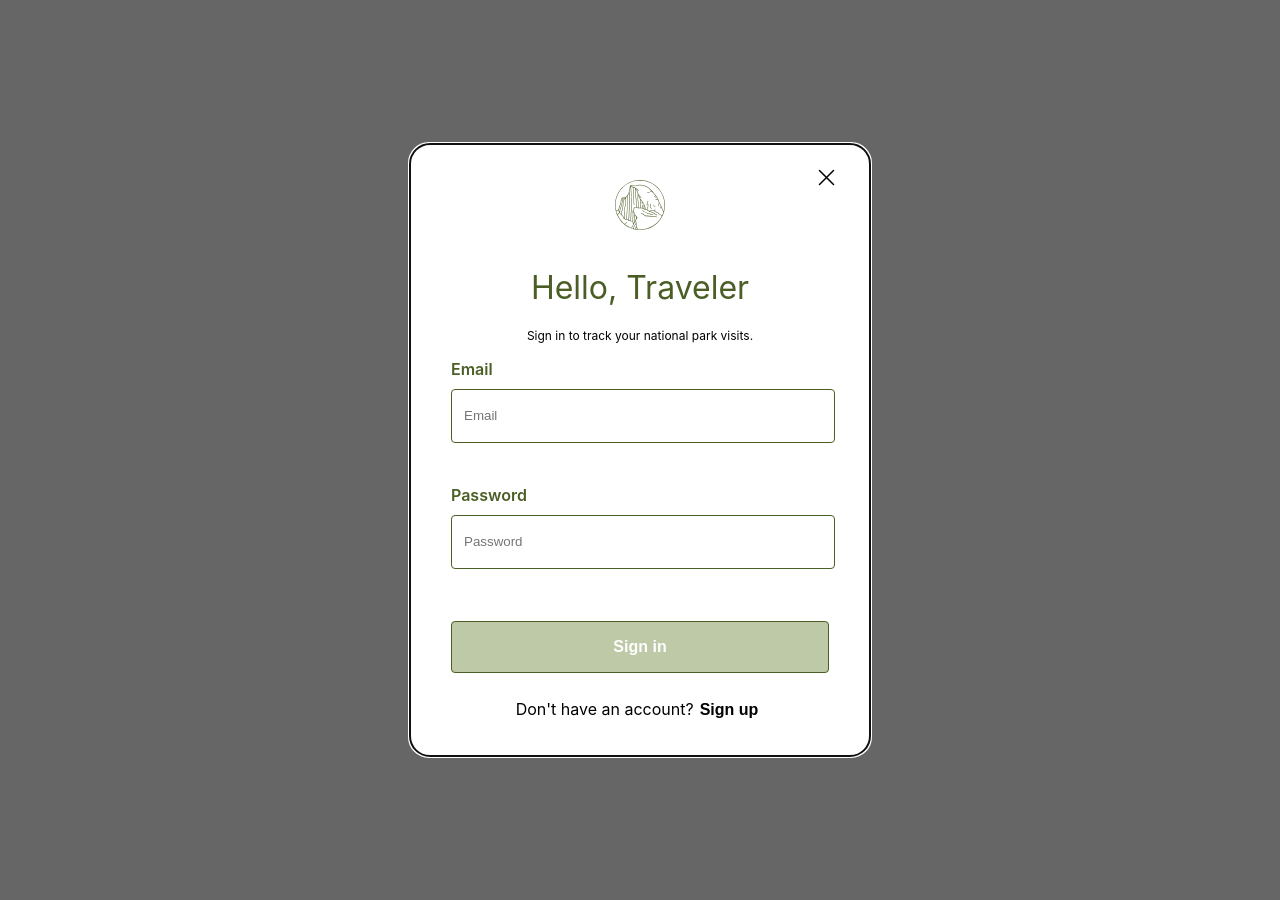
<LoginModalContainer /> › Submit errors › Returns error message
Step 1. Type "Test@gmail.com" into the field labelled "Email" → (643, 416), box [451, 389, 835, 443]
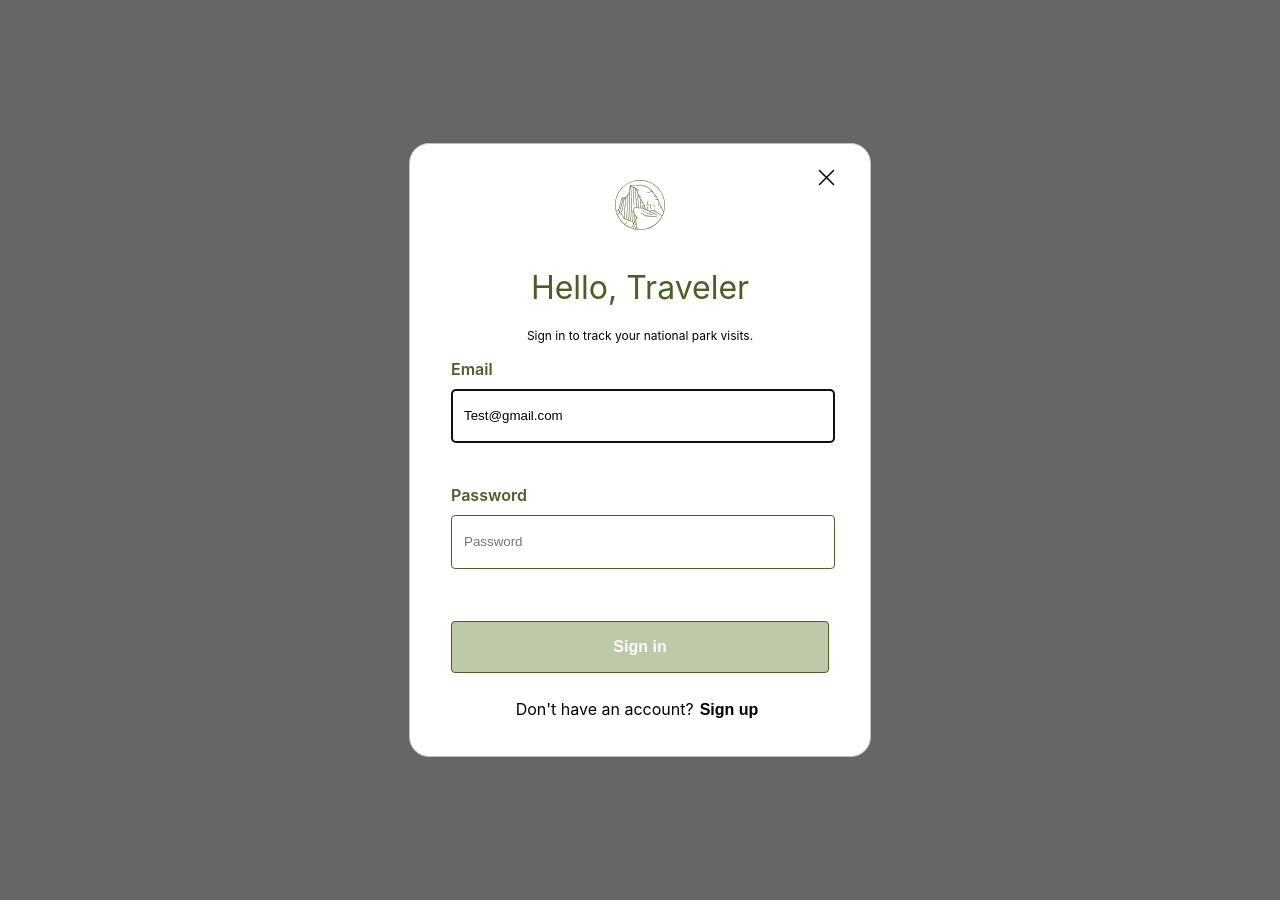
Step 2. Type "Test12345" into the password field labelled "Password" → (643, 542), box [451, 515, 835, 569]
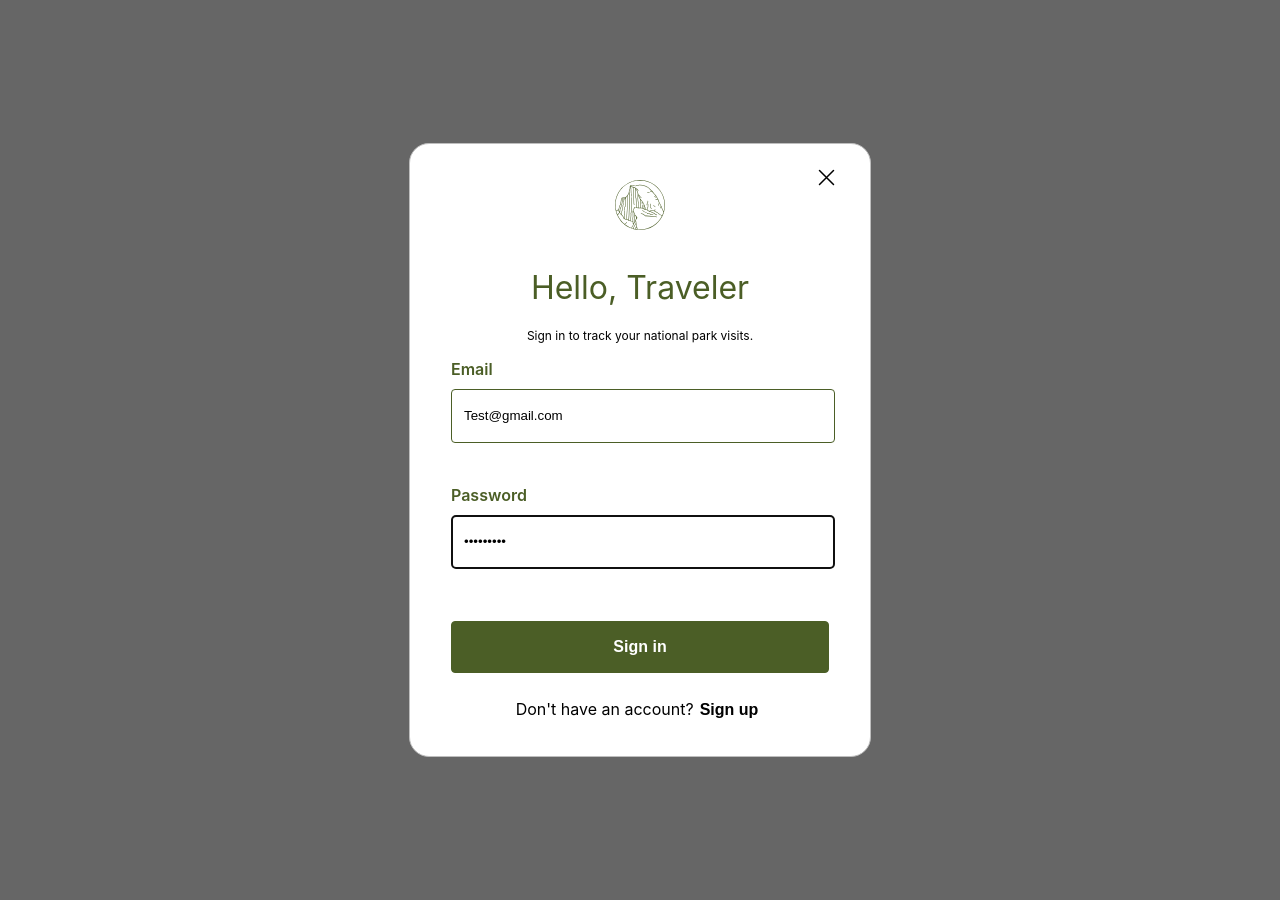
Result: the button "Sign in" is enabled
Step 3. Click the button "Sign in" → (640, 647), box [451, 621, 829, 673]
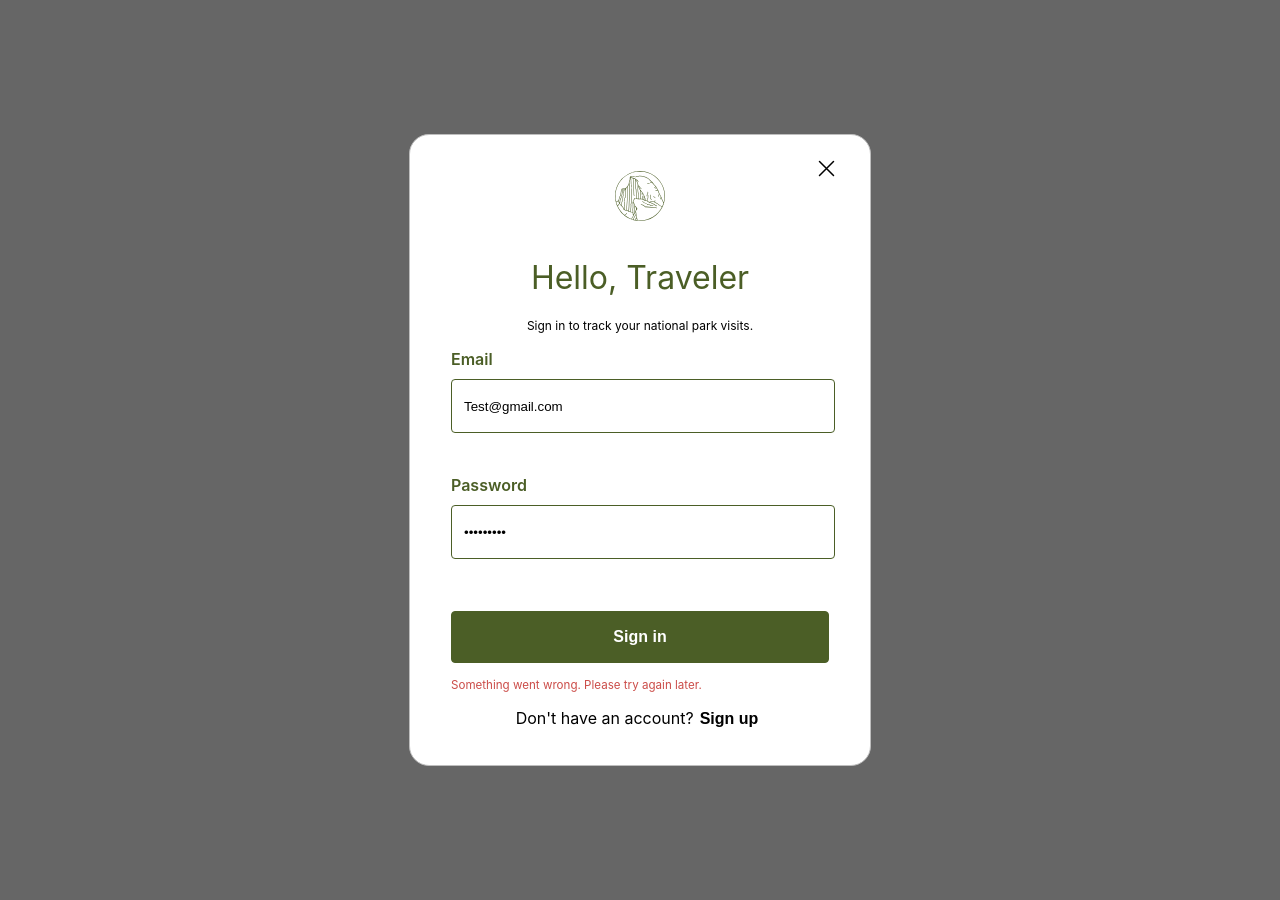
Result: the text "Something went wrong. Please try again later." is shown at [451, 678, 702, 692]
